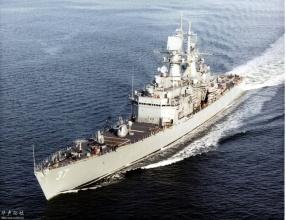warship: (31, 19, 245, 197)
